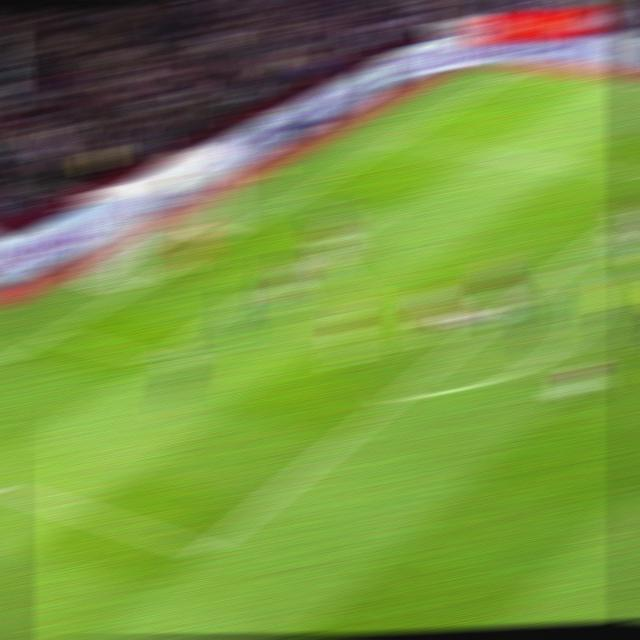bigarea_bottom_inner: (179, 527, 228, 570)
bigarea_top_outter: (381, 134, 409, 145)
bottom_arc_area_intersection: (378, 385, 413, 409)
corner: (496, 69, 527, 78)
smallarea_bottom_inner: (133, 345, 168, 372)
smallarea_bottom_outter: (36, 321, 72, 343)
smallarea_top_inner: (358, 212, 388, 226)
smallarea_top_outter: (274, 195, 303, 208)
top_arc_area_intersection: (548, 261, 576, 273)
